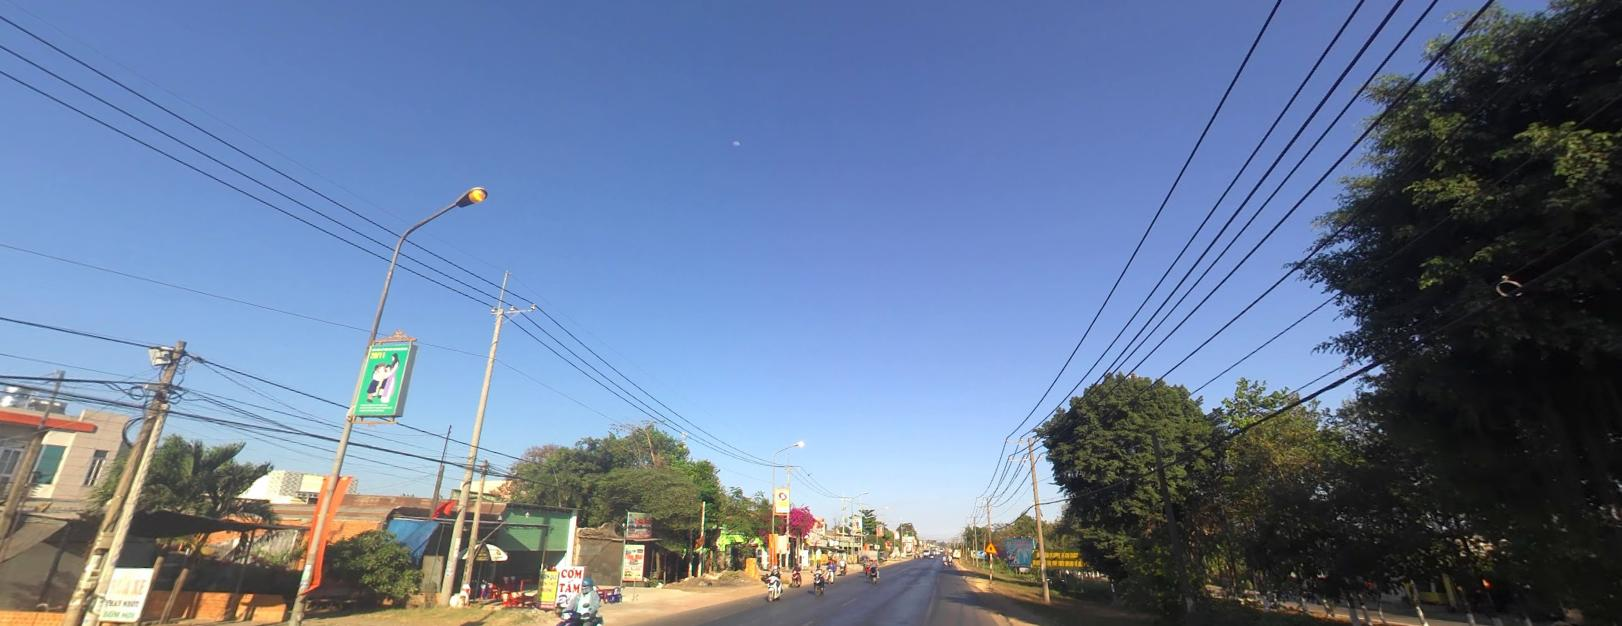Nguy hiem: (984, 540, 997, 554), (983, 540, 996, 552)
